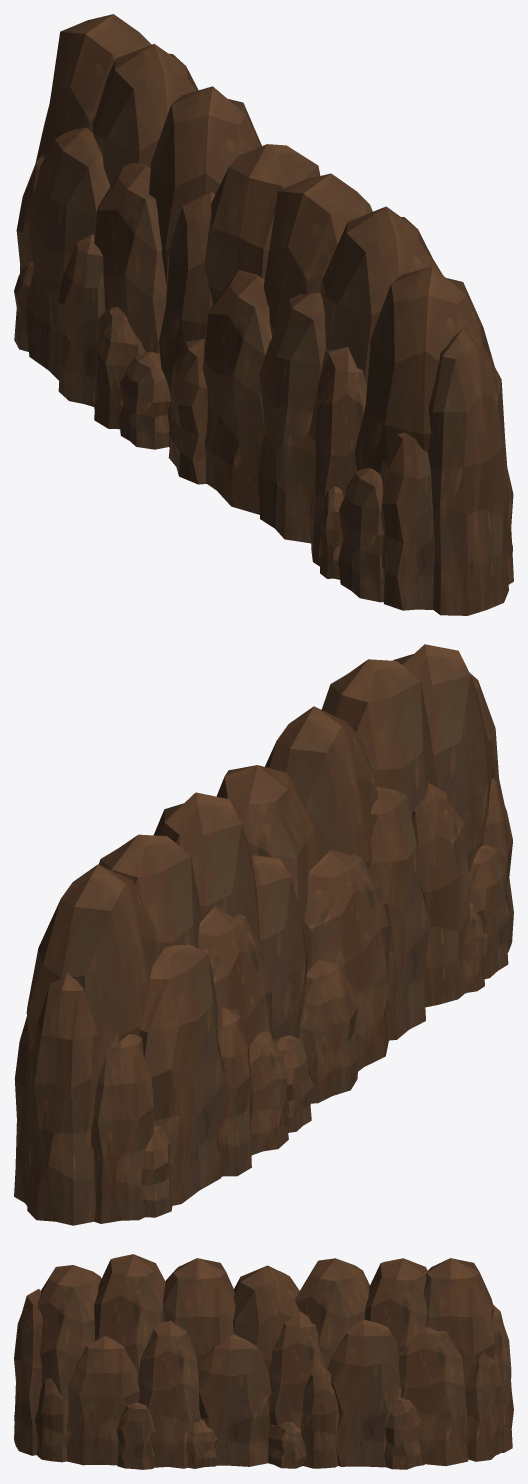
File: ModelWall_Ura_Brown.fbx
3 renders of one model, top to bottom at view 1: azimuth 30°, elevation 25°; view 2: azimuth 150°, elevation 25°; view 3: azimuth 270°, elevation 25°, orthographic. The views are drawn at different scales.
Visible parts, largest first — view 1: Kabe_Ura_Brown; view 2: Kabe_Ura_Brown; view 3: Kabe_Ura_Brown.
Part boxes in pixels (<box>): Kabe_Ura_Brown: <box>14,14,513,615</box>; Kabe_Ura_Brown: <box>14,644,513,1225</box>; Kabe_Ura_Brown: <box>14,1254,513,1469</box>.
Bounding box in the file's own units: 23.23 × 38.93 × 92.04.
1 material, 1 textured.
